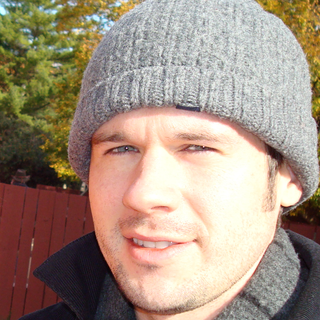eye: (167, 134, 222, 164), (94, 133, 145, 163)
